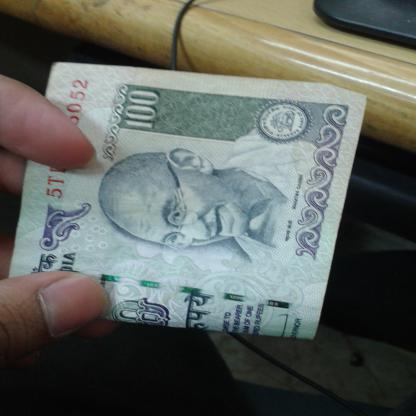Old100Front: (5, 60, 371, 342)
